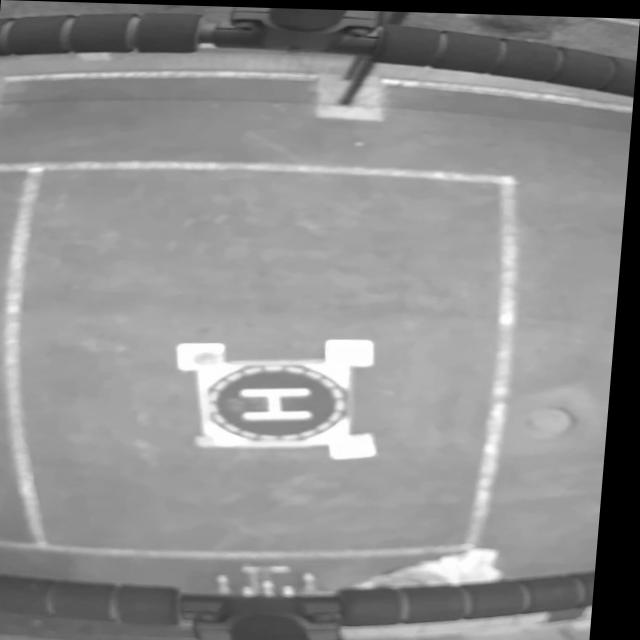Helipad: (244, 385, 317, 419)
